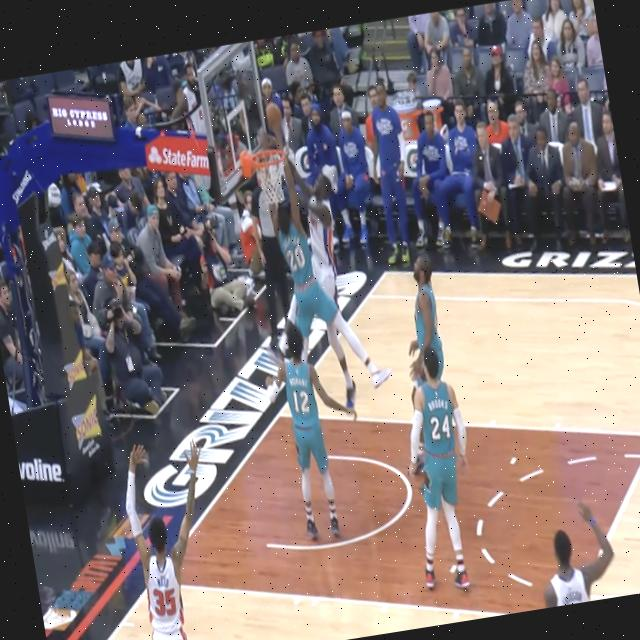foul: (251, 154, 394, 430)
no foul: (368, 246, 489, 596), (259, 316, 362, 553)
